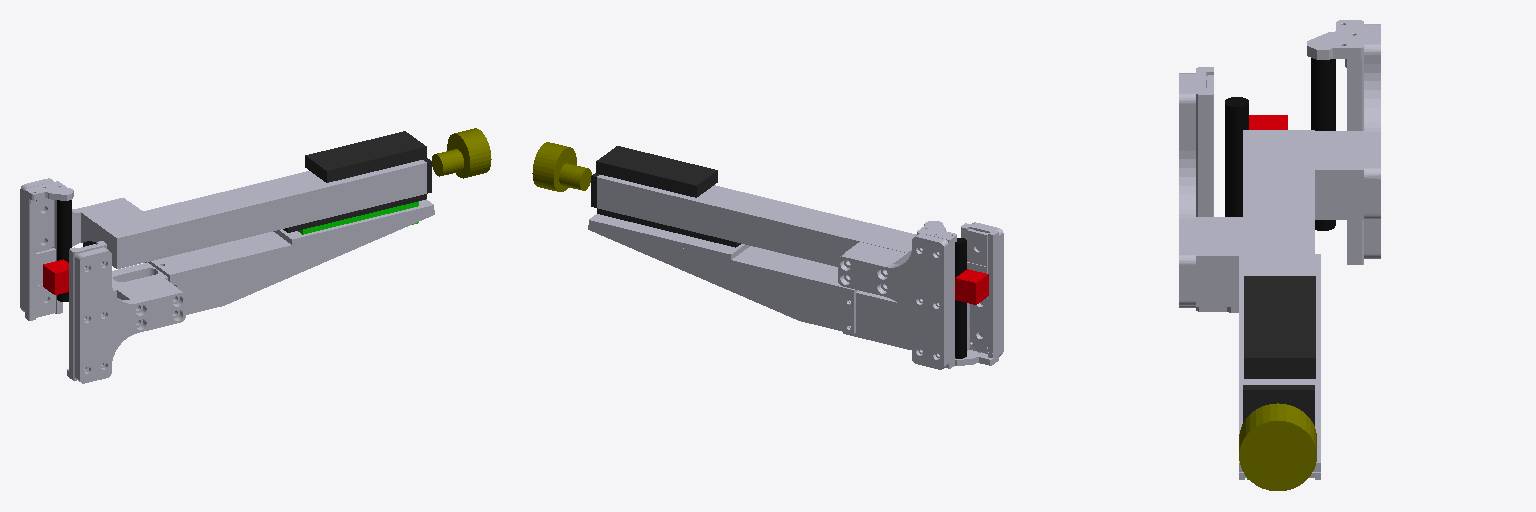
The robot description file, URDF, robot "uni":
<?xml version="1.0" ?>
<!-- =================================================================================== -->
<!-- |    This document was autogenerated by xacro from new_unigripper_macro.xacro     | -->
<!-- |    EDITING THIS FILE BY HAND IS NOT RECOMMENDED                                 | -->
<!-- =================================================================================== -->
<robot name="uni" xmlns:xacro="http://ros.org/wiki/xacro">
   <link name="dummy_base">
    <visual>
      <geometry>
        <!-- <box size="0.055 .025 .11"/> -->
        <box size="0.02 0.02 .02"/>
      </geometry>
      <material name="red">
        <color rgba="0.9 0.0 0.05 0.5"/>
      </material>
    </visual>
    <collision>
      <geometry>
        <!-- <box size="0.055 .025 .11"/> -->
        <box size="0.02 0.02 .02"/>
      </geometry>
      <material name="red">
        <color rgba="0.9 0.0 0.05 0.5"/>
      </material>
    </collision>
    <inertial>
      <origin rpy="0 0 0" xyz="0 0 0"/>
      <mass value="0.0"/>
      <inertia ixx="0" ixy="0" ixz="0" iyy="0" iyz="0" izz="0"/>
    </inertial>
  </link>
  <link name="base_uni">
    <visual>
      <geometry>
        <mesh filename="package://motoman_sda10f_support/meshes/sda10f/visual/unigripper_v2_body1.stl"/>
      </geometry>
      <material name="silver">
        <color rgba="0.76 0.76 0.82 1"/>
      </material>
    </visual>
    <collision>
      <origin rpy="0 0 0" xyz="0 0 0"/>
      <geometry>
        <mesh filename="package://motoman_sda10f_support/meshes/sda10f/visual/unigripper_v2_body1.stl"/>
      </geometry>
      <material name="silver">
        <color rgba="0.76 0.76 0.82 1"/>
      </material>
    </collision>
    <inertial>
      <origin rpy="0 0 0" xyz="0 0 0"/>
      <mass value="0.0"/>
      <inertia ixx="0" ixy="0" ixz="0" iyy="0" iyz="0" izz="0"/>
    </inertial>
  </link>
  <link name="left_movable_pipe">
    <visual>
      <geometry>
        <cylinder length="0.092" radius="0.006"/>
      </geometry>
      <material name="light_black">
        <color rgba="0.1 0.1 0.1 1"/>
      </material>
    </visual>
    <collision>
      <origin rpy="0 0 0" xyz="0 0 0"/>
      <geometry>
        <cylinder length="0.092" radius="0.006"/>
      </geometry>
      <material name="light_black">
        <color rgba="0.1 0.1 0.1 1"/>
      </material>
    </collision>
    <inertial>
      <origin rpy="0 0 0" xyz="0 0 0"/>
      <mass value="0.0"/>
      <inertia ixx="0" ixy="0" ixz="0" iyy="0" iyz="0" izz="0"/>
    </inertial>
  </link>
  <link name="parallel_gripper">
    <visual>
      <geometry>
        <!-- <box size="0.055 .025 .11"/> -->
        <box size="0.05 .02 .11"/>
      </geometry>
      <material name="green">
        <color rgba="0.05 0.85 0.05 0.5"/>
      </material>
    </visual>
    <collision>
      <geometry>
        <box size="0.055 .025 .14"/>
      </geometry>
      <material name="green">
        <color rgba="0.05 0.85 0.05 0.5"/>
      </material>
    </collision>
    <inertial>
      <origin rpy="0 0 0" xyz="0 0 0"/>
      <mass value="0.0"/>
      <inertia ixx="0" ixy="0" ixz="0" iyy="0" iyz="0" izz="0"/>
    </inertial>
  </link>
  <link name="right_movable_pipe">
    <visual>
      <geometry>
        <cylinder length="0.104" radius="0.006"/>
      </geometry>
      <material name="light_black">
        <color rgba="0.1 0.1 0.1 1"/>
      </material>
    </visual>
    <collision>
      <origin rpy="0 0 0" xyz="0 0 0"/>
      <geometry>
        <cylinder length="0.104" radius="0.006"/>
      </geometry>
      <material name="light_black">
        <color rgba="0.1 0.1 0.1 1"/>
      </material>
    </collision>
    <inertial>
      <origin rpy="0 0 0" xyz="0 0 0"/>
      <mass value="0.0"/>
      <inertia ixx="0" ixy="0" ixz="0" iyy="0" iyz="0" izz="0"/>
    </inertial>
  </link>
  <link name="passive_finger">
    <visual>
      <geometry>
        <mesh filename="package://motoman_sda10f_support/meshes/sda10f/visual/unigripper_v2_passive_finger1.stl"/>
      </geometry>
      <material name="silver">
        <color rgba="0.76 0.76 0.82 1"/>
      </material>
    </visual>
    <collision>
      <origin rpy="0 0 0" xyz="0 0 0"/>
      <geometry>
        <mesh filename="package://motoman_sda10f_support/meshes/sda10f/visual/unigripper_v2_passive_finger1.stl"/>
      </geometry>
      <material name="silver">
        <color rgba="0.76 0.76 0.82 1"/>
      </material>
    </collision>
    <inertial>
      <origin rpy="0 0 0" xyz="0 0 0"/>
      <mass value="0.0"/>
      <inertia ixx="0" ixy="0" ixz="0" iyy="0" iyz="0" izz="0"/>
    </inertial>
  </link>
  <link name="vacuum_finger">
    <visual>
      <geometry>
        <mesh filename="package://motoman_sda10f_support/meshes/sda10f/visual/unigripper_v2_vacuum_finger7.stl"/>
      </geometry>
      <material name="silver">
        <color rgba="0.76 0.76 0.82 1"/>
      </material>
    </visual>
    <collision>
      <origin rpy="0 0 0" xyz="0 0 0"/>
      <geometry>
        <mesh filename="package://motoman_sda10f_support/meshes/sda10f/visual/unigripper_v2_vacuum_finger7.stl"/>
      </geometry>
      <material name="silver">
        <color rgba="0.76 0.76 0.82 1"/>
      </material>
    </collision>
    <inertial>
      <origin rpy="0 0 0" xyz="0 0 0"/>
      <mass value="0.0"/>
      <inertia ixx="0" ixy="0" ixz="0" iyy="0" iyz="0" izz="0"/>
    </inertial>
  </link>
  <link name="upper_jaw">
    <visual>
      <geometry>
        <box size="0.294 0.035 0.028"/>
      </geometry>
      <material name="silver">
        <color rgba="0.76 0.76 0.82 1"/>
      </material>
    </visual>
    <collision>
      <origin rpy="0 0 0" xyz="0 0 0"/>
      <geometry>
        <box size="0.294 0.035 0.028"/>
      </geometry>
      <material name="silver">
        <color rgba="0.76 0.76 0.82 1"/>
      </material>
    </collision>
    <inertial>
      <origin rpy="0 0 0" xyz="0 0 0"/>
      <mass value="0.0"/>
      <inertia ixx="0" ixy="0" ixz="0" iyy="0" iyz="0" izz="0"/>
    </inertial>
  </link>
  <link name="air_feed_plate">
    <visual>
      <geometry>
        <mesh filename="package://motoman_sda10f_support/meshes/sda10f/visual/air_feed_plate.stl"/>
      </geometry>
      <material name="red">
        <color rgba="1 0 0 1"/>
      </material>
    </visual>
    <collision>
      <origin rpy="0 0 0" xyz="0 0 0"/>
      <geometry>
        <mesh filename="package://motoman_sda10f_support/meshes/sda10f/visual/air_feed_plate.stl"/>
      </geometry>
      <material name="red">
        <color rgba="1 0 0 1"/>
      </material>
    </collision>
    <inertial>
      <origin rpy="0 0 0" xyz="0 0 0"/>
      <mass value="0.0"/>
      <inertia ixx="0" ixy="0" ixz="0" iyy="0" iyz="0" izz="0"/>
    </inertial>
  </link>
  <link name="upper_vacuum">
    <visual>
      <geometry>
        <box size="0.095 0.035 0.011"/>
      </geometry>
      <material name="dark_grey">
        <color rgba="0.2 0.2 0.2 1"/>
      </material>
    </visual>
    <collision>
      <origin rpy="0 0 0" xyz="0 0 0"/>
      <geometry>
        <box size="0.095 0.035 0.011"/>
      </geometry>
      <material name="dark_grey">
        <color rgba="0.2 0.2 0.2 1"/>
      </material>
    </collision>
    <inertial>
      <origin rpy="0 0 0" xyz="0 0 0"/>
      <mass value="0.0"/>
      <inertia ixx="0" ixy="0" ixz="0" iyy="0" iyz="0" izz="0"/>
    </inertial>
  </link>
  <link name="sponge_upper_jaw">
    <visual>
      <geometry>
        <box size="0.132 0.035 0.005"/>
      </geometry>
      <material name="dark_grey">
        <color rgba="0.2 0.2 0.2 1"/>
      </material>
    </visual>
    <collision>
      <origin rpy="0 0 0" xyz="0 0 0"/>
      <geometry>
        <box size="0.132 0.035 0.005"/>
      </geometry>
      <material name="dark_grey">
        <color rgba="0.2 0.2 0.2 1"/>
      </material>
    </collision>
    <inertial>
      <origin rpy="0 0 0" xyz="0 0 0"/>
      <mass value="0.0"/>
      <inertia ixx="0" ixy="0" ixz="0" iyy="0" iyz="0" izz="0"/>
    </inertial>
  </link>
  <link name="vacuum_base">
    <visual>
      <geometry>
        <box size="0.005 0.035 0.028"/>
      </geometry>
      <material name="dark_grey">
        <color rgba="0.2 0.2 0.2 1"/>
      </material>
    </visual>
    <collision>
      <origin rpy="0 0 0" xyz="0 0 0"/>
      <geometry>
        <box size="0.005 0.035 0.028"/>
      </geometry>
      <material name="dark_grey">
        <color rgba="0.2 0.2 0.2 1"/>
      </material>
    </collision>
    <inertial>
      <origin rpy="0 0 0" xyz="0 0 0"/>
      <mass value="0.0"/>
      <inertia ixx="0" ixy="0" ixz="0" iyy="0" iyz="0" izz="0"/>
    </inertial>
  </link>
  <link name="pre_front_vacuum">
    <visual>
      <geometry>
        <cylinder length="0.02" radius="0.0095"/>
      </geometry>
      <material name="gold">
        <color rgba="0.5 0.5 0.0 1"/>
      </material>
    </visual>
    <collision>
      <origin rpy="0 0 0" xyz="0 0 0"/>
      <geometry>
        <cylinder length="0.02" radius="0.0095"/>
      </geometry>
      <material name="gold">
        <color rgba="0.5 0.5 0.0 1"/>
      </material>
    </collision>
    <inertial>
      <origin rpy="0 0 0" xyz="0 0 0"/>
      <mass value="0.0"/>
      <inertia ixx="0" ixy="0" ixz="0" iyy="0" iyz="0" izz="0"/>
    </inertial>
  </link>
  <link name="front_vacuum">
    <visual>
      <geometry>
        <cylinder length="0.02" radius="0.019"/>
      </geometry>
      <material name="gold">
        <color rgba="0.5 0.5 0.0 1"/>
      </material>
    </visual>
    <collision>
      <origin rpy="0 0 0" xyz="0 0 0"/>
      <geometry>
        <cylinder length="0.02" radius="0.019"/>
      </geometry>
      <material name="gold">
        <color rgba="0.5 0.5 0.0 1"/>
      </material>
    </collision>
    <inertial>
      <origin rpy="0 0 0" xyz="0 0 0"/>
      <mass value="0.0"/>
      <inertia ixx="0" ixy="0" ixz="0" iyy="0" iyz="0" izz="0"/>
    </inertial>
  </link>



  <joint name="dummy" type="fixed">
    <parent link="dummy_base"/>
    <child link="base_uni"/>
    <axis xyz="0 0 1"/>
    <origin rpy="0 1.5707 0" xyz="0 0 0"/>
  </joint>

  <joint name="joint_right_movable_pipe" type="fixed">
    <parent link="base_uni"/>
    <child link="right_movable_pipe"/>
    <axis xyz="0 0 -1"/>
    <limit effort="50" lower="0.003" upper="0.052" velocity="0.2"/>
    <!-- <origin xyz="0.0055 0.0225 -0.1005" rpy="0 0 0" /> -->
    <origin rpy="0 1.5707 0" xyz="0.02075 -0.015 0.0203"/>
  </joint>
  <joint name="joint_left_movable_pipe" type="fixed">
    <parent link="base_uni"/>
    <child link="left_movable_pipe"/>
    <axis xyz="0 0 1"/>
    <limit effort="50" lower="0.0" upper="0.046" velocity="0.2"/>
    <!-- <origin xyz="0.0055 0.0225 -0.1005" rpy="0 0 0" /> -->
    <origin rpy="0 1.5707 0" xyz="-0.01075 0.027 0.0203"/>
  </joint>
  <joint name="joint_parallel_gripper" type="fixed">
    <!-- <origin rpy="0 0 0" xyz="-0.0125 0.01 0.28"/> -->
    <origin rpy="0 0 0" xyz="0.0 0.0 0.28"/>
    <axis xyz="0 0 0"/>
    <parent link="base_uni"/>
    <child link="parallel_gripper"/>
  </joint>
  <joint name="joint_passive_finger" type="fixed">
    <origin rpy="0 -1.5707 0" xyz="-0.150849 0.0065 -0.0003"/>
    <axis xyz="0 0 0"/>
    <parent link="right_movable_pipe"/>
    <child link="passive_finger"/>
  </joint>
  <joint name="joint_vacuum_finger" type="fixed">
    <origin rpy="0 -1.5707 0" xyz="-0.024 0.01 0.0063"/>
    <axis xyz="0 0 0"/>
    <parent link="left_movable_pipe"/>
    <child link="vacuum_finger"/>
  </joint>
  <joint name="joint_upper_jaw" type="fixed">
    <origin rpy="0 1.5707 0" xyz="-0.0105 -0.0315 0.1505"/>
    <axis xyz="0 0 0"/>
    <parent link="vacuum_finger"/>
    <child link="upper_jaw"/>
  </joint>
  <joint name="joint_air_feed_plate" type="fixed">
    <origin rpy="-1.5707 0 1.5707" xyz="0.143 0 -0.0088"/>
    <axis xyz="0 0 0"/>
    <parent link="upper_jaw"/>
    <child link="air_feed_plate"/>
  </joint>
  <joint name="joint_upper_vacuum" type="fixed">
    <origin rpy="0 -1.5707 0.0" xyz="-0.038 0.006 0.2943"/>
    <axis xyz="0 0 0"/>
    <parent link="base_uni"/>
    <child link="upper_vacuum"/>
  </joint>
  <joint name="joint_sponge_upper_jaw" type="fixed">
    <origin rpy="0 0 0" xyz="-0.081 0 0.0165"/>
    <axis xyz="0 0 0"/>
    <parent link="upper_jaw"/>
    <child link="sponge_upper_jaw"/>
  </joint>
  <joint name="joint_vacuum_base" type="fixed">
    <origin rpy="0 0 0" xyz="-0.1495 0 0"/>
    <axis xyz="0 0 0"/>
    <parent link="upper_jaw"/>
    <child link="vacuum_base"/>
  </joint>
  <joint name="joint_pre_front_vacuum" type="fixed">
    <origin rpy="0 1.5707 0" xyz="-0.0275 0 0"/>
    <axis xyz="0 0 0"/>
    <parent link="vacuum_base"/>
    <child link="pre_front_vacuum"/>
  </joint>
  <joint name="joint_front_vacuum" type="fixed">
    <origin rpy="0 0 0" xyz="-0.019 0.005 0.3918"/>
    <axis xyz="0 0 0"/>
    <parent link="base_uni"/>
    <child link="front_vacuum"/>
  </joint>
 </robot>

--- What the picture shows (computed from the rendered views, not written in the file) ---
The picture shows the robot from 3 angles, left to right: view 1: azimuth 30°, elevation 25°; view 2: azimuth 150°, elevation 25°; view 3: azimuth 270°, elevation 25°; orthographic projection.
Robot: uni — 14 links, 13 joints (13 fixed); root link dummy_base; default pose: all joints at 0.
Links seen in each view (by area): view 1: passive_finger, upper_jaw, vacuum_finger, upper_vacuum, front_vacuum, left_movable_pipe, dummy_base, sponge_upper_jaw, pre_front_vacuum, parallel_gripper; view 2: passive_finger, upper_jaw, vacuum_finger, upper_vacuum, front_vacuum, right_movable_pipe, dummy_base, sponge_upper_jaw, pre_front_vacuum; view 3: passive_finger, vacuum_finger, upper_jaw, upper_vacuum, front_vacuum, right_movable_pipe, left_movable_pipe, vacuum_base, dummy_base.
Link boxes in pixels (box(x1,y1,x2,y2)): passive_finger: box(67, 199, 434, 383); upper_jaw: box(96, 160, 426, 268); vacuum_finger: box(20, 178, 142, 320); upper_vacuum: box(305, 131, 426, 182); front_vacuum: box(447, 128, 491, 178); left_movable_pipe: box(57, 200, 71, 301); dummy_base: box(43, 259, 68, 294); sponge_upper_jaw: box(283, 194, 426, 232); pre_front_vacuum: box(432, 149, 463, 176); parallel_gripper: box(298, 201, 418, 234); passive_finger: box(588, 214, 1003, 365); upper_jaw: box(597, 175, 916, 266); vacuum_finger: box(838, 221, 956, 369); upper_vacuum: box(596, 146, 717, 197); front_vacuum: box(532, 142, 576, 191); right_movable_pipe: box(955, 238, 966, 358); dummy_base: box(955, 269, 988, 304); sponge_upper_jaw: box(597, 208, 740, 247); pre_front_vacuum: box(559, 163, 591, 190); passive_finger: box(1179, 67, 1320, 479); vacuum_finger: box(1307, 20, 1380, 264); upper_jaw: box(1243, 130, 1314, 384); upper_vacuum: box(1244, 276, 1315, 378); front_vacuum: box(1239, 403, 1316, 490); right_movable_pipe: box(1225, 97, 1248, 216); left_movable_pipe: box(1311, 58, 1335, 230); vacuum_base: box(1243, 385, 1314, 425); dummy_base: box(1249, 115, 1287, 129).
Bounding box of the posed robot: 0.4118 × 0.0979 × 0.1414 m (x, y, z).
Meshes: 4 distinct files referenced, 2 mesh visuals loaded (2 binary STL); not drawn: 2 (reference not matched to a file when rendering).